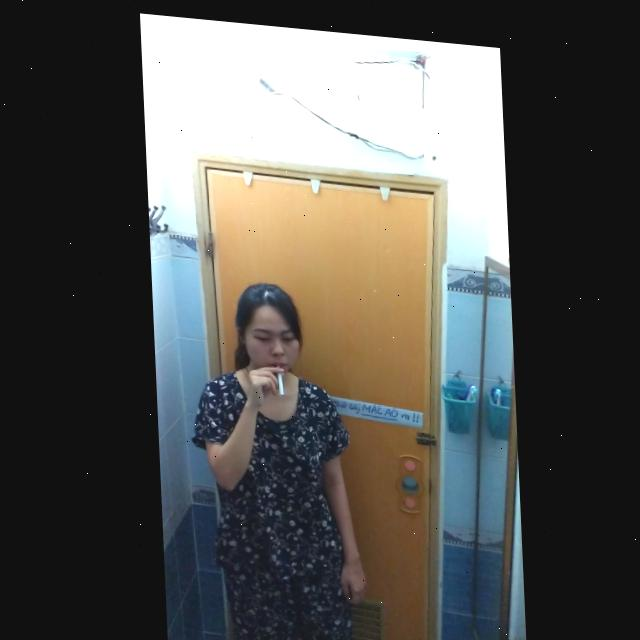cigarette: (274, 360, 281, 390)
